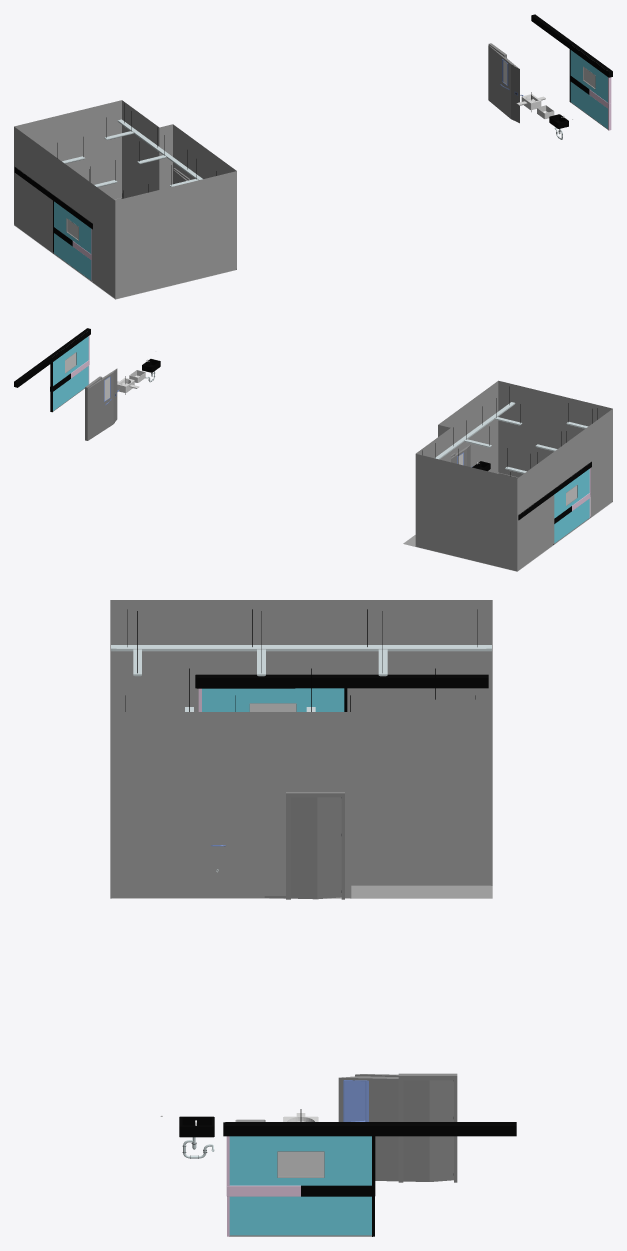
File: heräämö1.fbx
3 views of the same model, one above another, from view 1: azimuth 30°, elevation 25°; view 2: azimuth 150°, elevation 25°; view 3: azimuth 270°, elevation 25° (orthographic). The views are drawn at different scales.
Parts seen in each view (by area): view 1: Huone, SisempiRunko.001, Sisennys1, Sisennys1.002, Yläsuojus.002, Metallisuojus.002, Yläsuojus.001, Ylälista 1; view 2: Huone, SisempiRunko.001, Sisennys1, Sisennys1.002, Yläsuojus.002, Yläsuojus.001, Metallisuojus.002, Ylälista 1; view 3: Huone, Sisennys1.002, SisempiRunko.001, SisempiRunko, Yläsuojus.002, Yläsuojus.001, Sisennys1, Ylälista 1.001, Metallisuojus.002, Pikkuovi.001, Pikkuovi, Karmi.002 (+1 smaller).
Boxes of the visible parts, left/top/right/bottom form: Huone: left=14, top=100, right=236, bottom=299; SisempiRunko.001: left=488, top=45, right=519, bottom=123; Sisennys1: left=54, top=201, right=91, bottom=280; Sisennys1.002: left=570, top=50, right=607, bottom=128; Yläsuojus.002: left=531, top=14, right=612, bottom=77; Metallisuojus.002: left=569, top=49, right=611, bottom=130; Yläsuojus.001: left=14, top=167, right=92, bottom=229; Ylälista 1: left=117, top=119, right=202, bottom=179; Huone: left=403, top=380, right=612, bottom=571; SisempiRunko.001: left=87, top=368, right=117, bottom=440; Sisennys1: left=554, top=469, right=589, bottom=543; Sisennys1.002: left=53, top=336, right=88, bottom=410; Yläsuojus.002: left=14, top=328, right=90, bottom=387; Yläsuojus.001: left=518, top=461, right=591, bottom=520; Metallisuojus.002: left=50, top=335, right=89, bottom=412; Ylälista 1: left=435, top=402, right=515, bottom=459; Huone: left=110, top=600, right=492, bottom=898; Sisennys1.002: left=229, top=1136, right=371, bottom=1235; SisempiRunko.001: left=338, top=1074, right=453, bottom=1181; SisempiRunko: left=264, top=797, right=341, bottom=899; Yläsuojus.002: left=223, top=1122, right=516, bottom=1136; Yläsuojus.001: left=195, top=674, right=488, bottom=688; Sisennys1: left=202, top=688, right=344, bottom=711; Ylälista 1.001: left=111, top=645, right=491, bottom=651; Metallisuojus.002: left=226, top=1136, right=375, bottom=1236; Pikkuovi.001: left=398, top=1073, right=457, bottom=1182; Pikkuovi: left=286, top=792, right=344, bottom=899; Karmi.002: left=278, top=1152, right=323, bottom=1176.
Size of the model in its own units: 691 by 1955 by 355.
